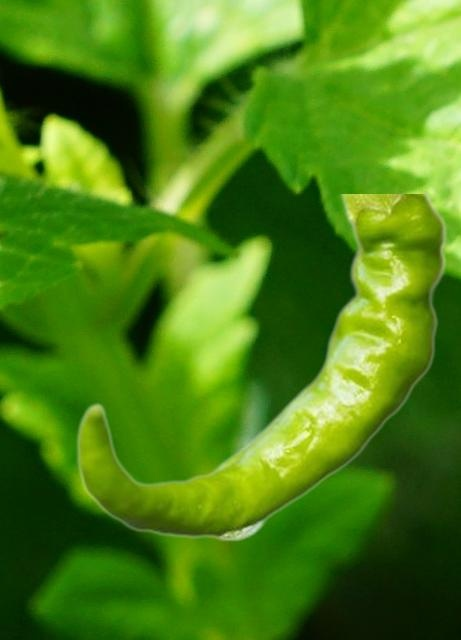green_chili: (76, 194, 447, 541)
